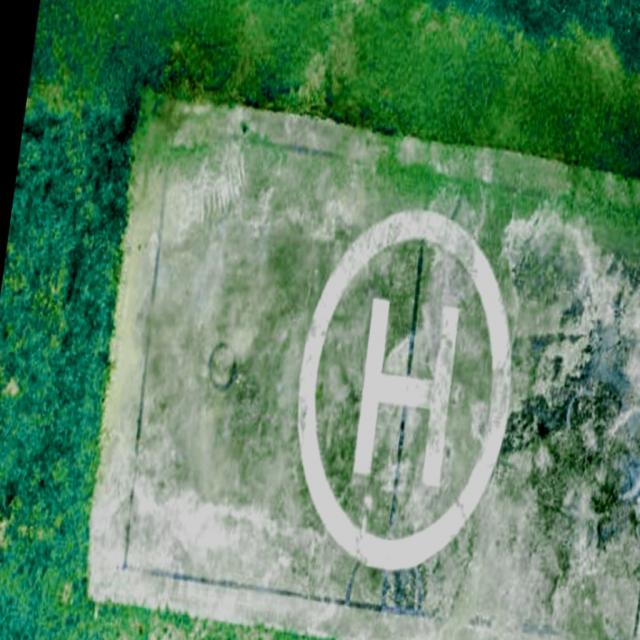helipad: (286, 202, 520, 576)
